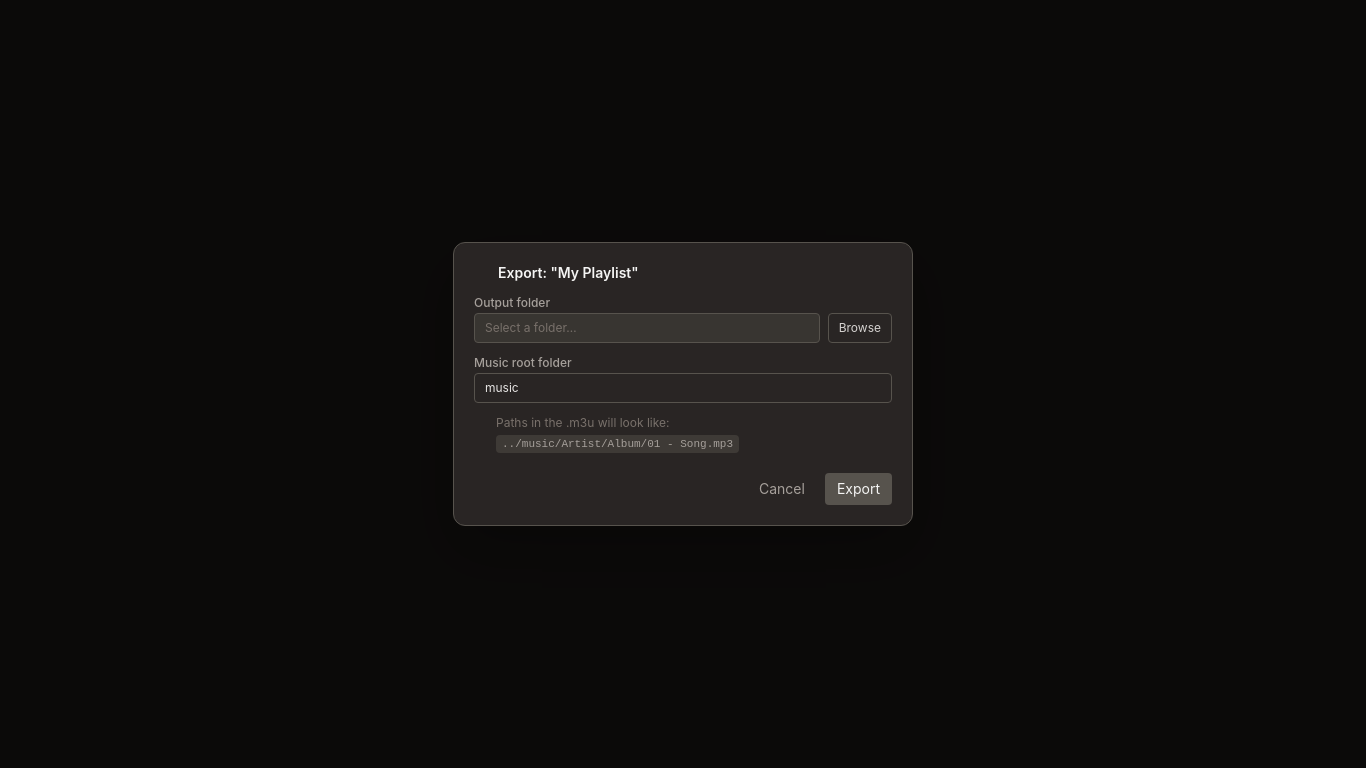
Test: PlaylistExportDialog › refuses to export without an output folder
Click the button "Export" at (858, 489), box [825, 473, 892, 505]
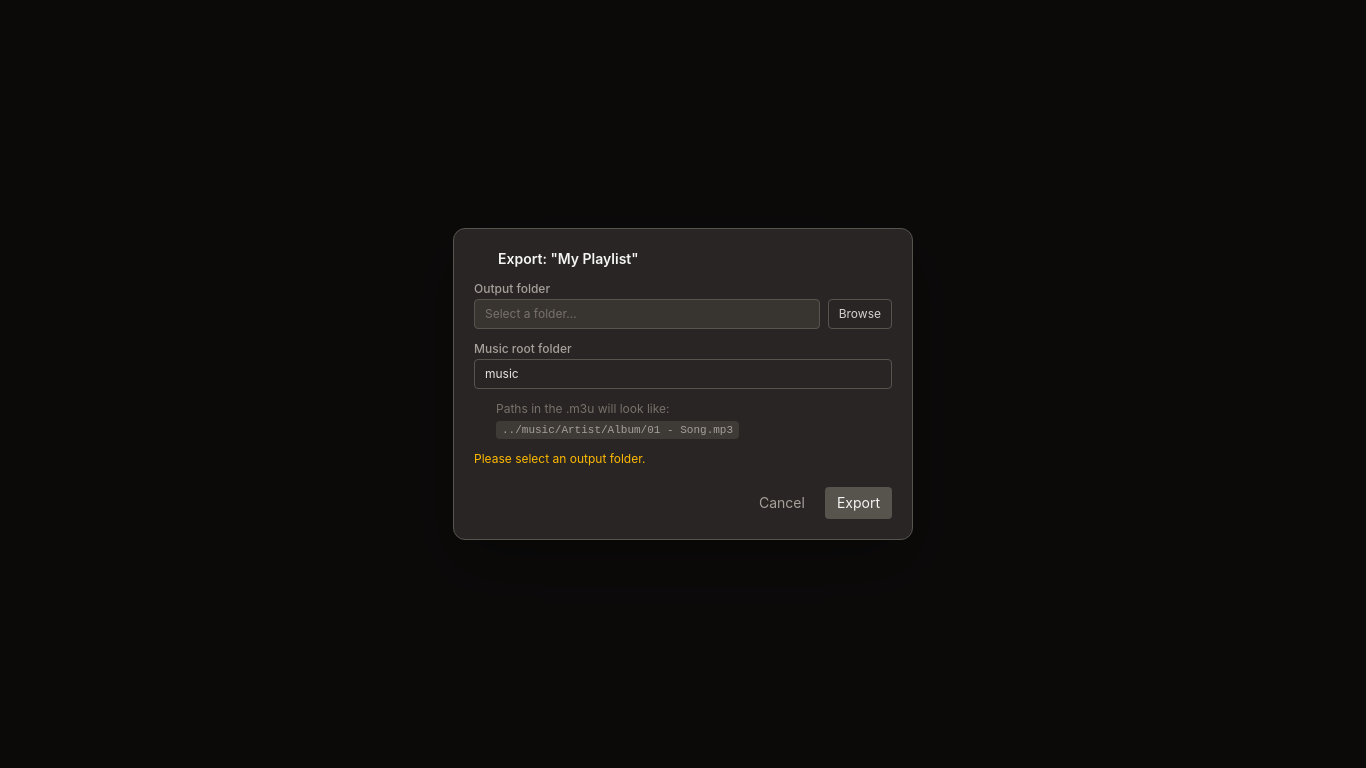
Now the text "Please select an output folder." is shown, box [474, 451, 646, 466]
